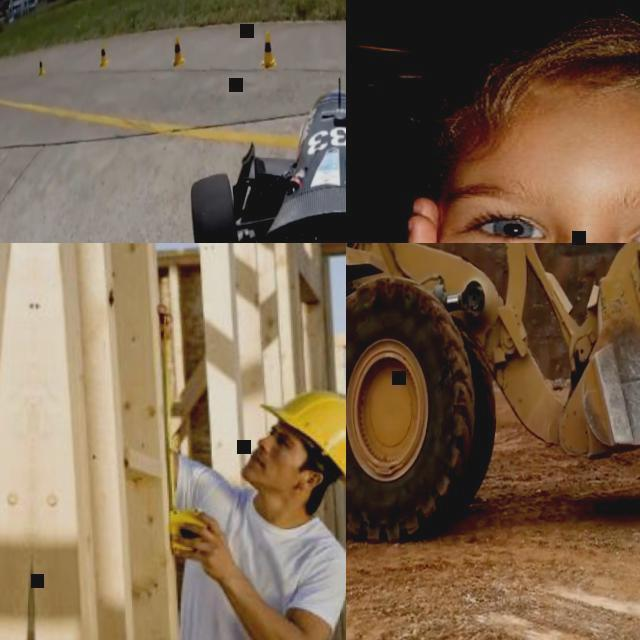helmet: (258, 387, 346, 487)
machinery: (346, 243, 640, 554)
no_helmet: (437, 3, 640, 184)
no_mask: (238, 447, 292, 490)
no_vest: (168, 456, 330, 640)
person: (346, 0, 640, 243), (148, 300, 346, 640)
safety_cone: (260, 28, 278, 72), (170, 34, 185, 70), (96, 45, 108, 72), (37, 56, 47, 82)
vehicle: (169, 67, 346, 243)
